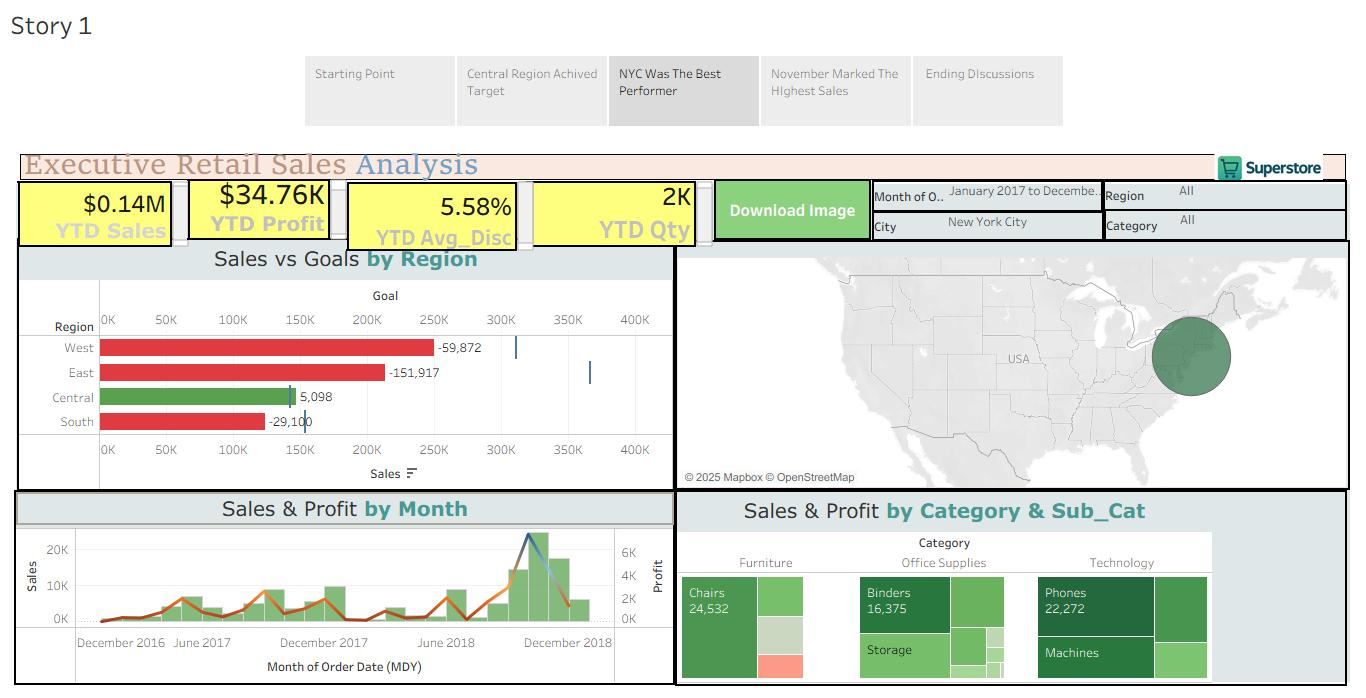

Layout of this report page (visuals, bound fields, positions):
{"tool":"tableau","page":{"name":"Dashboard 1","canvas":[1000,1000],"units":"permille","ordinal":0},"visuals":[{"type":"title","box":[6.9,14.2,986.1,62.1]},{"type":"image","param":"Image/Superstore-image 2.png","box":[897.9,16,92.9,60.5]},{"type":"worksheet","title":"Profit","mark":"Automatic","box":[133.3,40.9,117.8,147.7]},{"type":"worksheet","title":"Sales","mark":"Automatic","box":[6.9,44.5,127.3,147.7]},{"type":"worksheet","title":"Discount","mark":"Automatic","box":[251.1,44.5,139.4,154.8]},{"type":"worksheet","title":"Quantity","mark":"Automatic","box":[383.6,44.5,138.5,147.7]},{"type":"dashboard-object","box":[522.9,67.6,116,112.1]},{"type":"filter","title":"Time_Series","param":"[federated.0n1yw590q4qt2f17w6wlu1ym4l22].[tmn:Order Date (MDY):qk]","box":[639.8,69.4,171.4,58.7]},{"type":"filter","title":"Target_vs_Acheved","param":"[federated.0n1yw590q4qt2f17w6wlu1ym4l22].[none:Region:nk]","box":[811.3,69.4,181,56.9]},{"type":"filter","title":"Tree_Map","param":"[federated.0n1yw590q4qt2f17w6wlu1ym4l22].[none:Category:nk]","box":[812.1,122.8,180.1,58.7]},{"type":"filter","title":"City_Wise","param":"[federated.0n1yw590q4qt2f17w6wlu1ym4l22].[none:City:nk]","box":[639.8,126.3,172.3,55.2]},{"type":"worksheet","title":"Target_vs_Acheved","mark":"Automatic","rows":["Region"],"cols":["Sales","Goal"],"box":[5.2,179.7,489.2,457.3]},{"type":"worksheet","title":"City_Wise","mark":"Automatic","box":[494.4,179.7,499.6,455.5]},{"type":"worksheet","title":"Time_Series","mark":"Automatic","rows":["Sales","Profit"],"cols":["Order Date (MDY)"],"box":[4.3,635.2,490,355.9]},{"type":"worksheet","title":"Tree_Map","mark":"Automatic","cols":["Category"],"box":[494.4,635.2,497.8,357.7]}]}

Visuals, with their boxes on the dashboard's canvas, which has no fixed pixel size, in thousandths of its width and height (x1, y1, x2, y2). These are canvas units, not pixel positions in the 1366x698 screenshot, which may show the page scaled, cropped or inside an application window:
title: {"left": 7, "top": 14, "right": 993, "bottom": 76}
image: {"left": 898, "top": 16, "right": 991, "bottom": 76}
"Profit" worksheet: {"left": 133, "top": 41, "right": 251, "bottom": 189}
"Sales" worksheet: {"left": 7, "top": 44, "right": 134, "bottom": 192}
"Discount" worksheet: {"left": 251, "top": 44, "right": 390, "bottom": 199}
"Quantity" worksheet: {"left": 384, "top": 44, "right": 522, "bottom": 192}
dashboard-object: {"left": 523, "top": 68, "right": 639, "bottom": 180}
"Time_Series" filter: {"left": 640, "top": 69, "right": 811, "bottom": 128}
"Target_vs_Acheved" filter: {"left": 811, "top": 69, "right": 992, "bottom": 126}
"Tree_Map" filter: {"left": 812, "top": 123, "right": 992, "bottom": 182}
"City_Wise" filter: {"left": 640, "top": 126, "right": 812, "bottom": 182}
"Target_vs_Acheved" worksheet: {"left": 5, "top": 180, "right": 494, "bottom": 637}
"City_Wise" worksheet: {"left": 494, "top": 180, "right": 994, "bottom": 635}
"Time_Series" worksheet: {"left": 4, "top": 635, "right": 494, "bottom": 991}
"Tree_Map" worksheet: {"left": 494, "top": 635, "right": 992, "bottom": 993}
